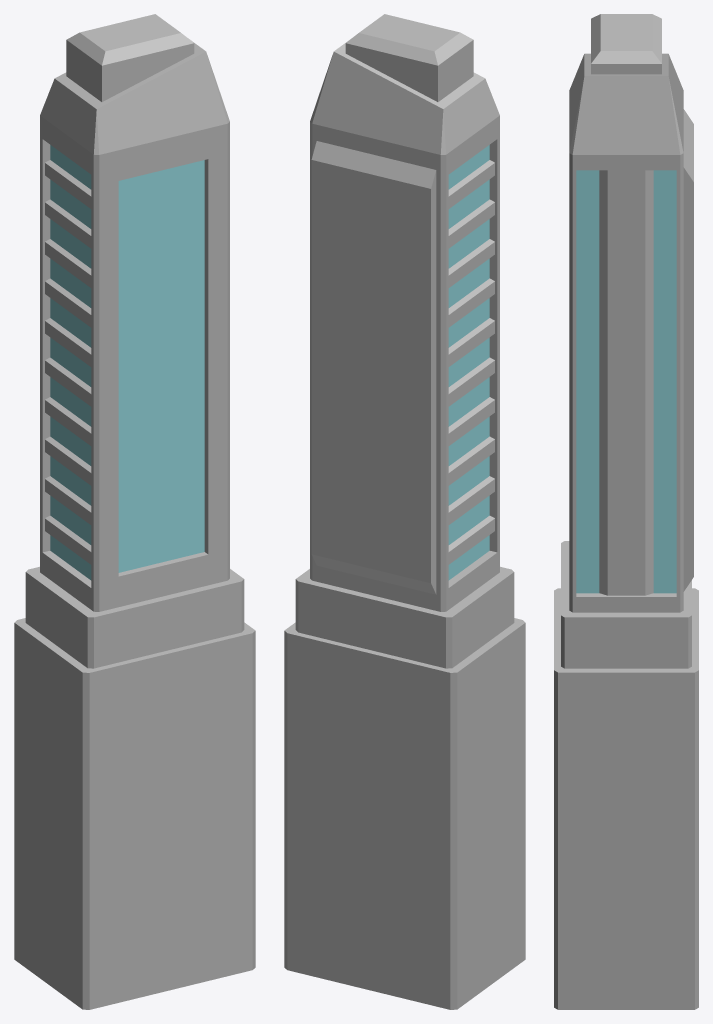
The model's file is BuildingC.fbx.
The picture shows the model from 3 angles, left to right: view 1: azimuth 30°, elevation 25°; view 2: azimuth 150°, elevation 25°; view 3: azimuth 270°, elevation 25°; orthographic projection.
Parts seen in each view (by area): view 1: Cube; view 2: Cube; view 3: Cube.
Part boxes in pixels (left/top/right/bottom): Cube: left=14, top=14, right=255, bottom=1009; Cube: left=284, top=14, right=525, bottom=1009; Cube: left=554, top=14, right=698, bottom=1009.
Size of the model in its own units: 2719 by 14013 by 1972.
